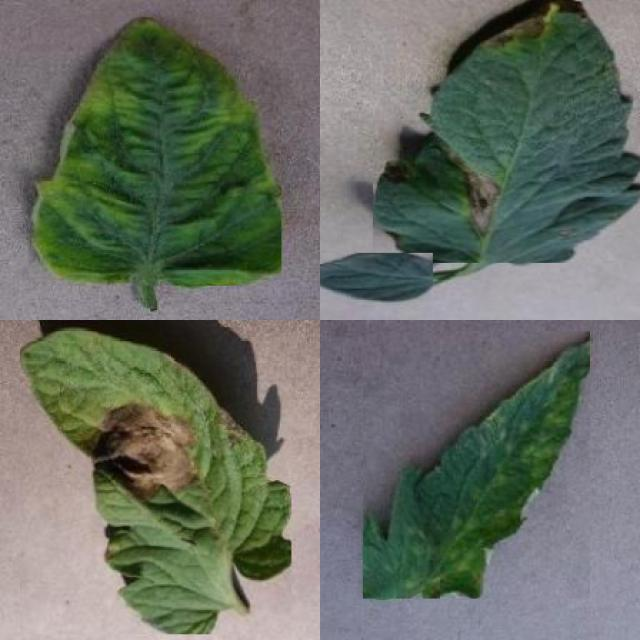Early Blight: (373, 1, 640, 263)
Healthy: (320, 254, 433, 302)
Late Blight: (20, 327, 291, 634)
Leaf Mold: (363, 332, 590, 598)
Yellow Leaf Curl Virus: (28, 17, 282, 286)
